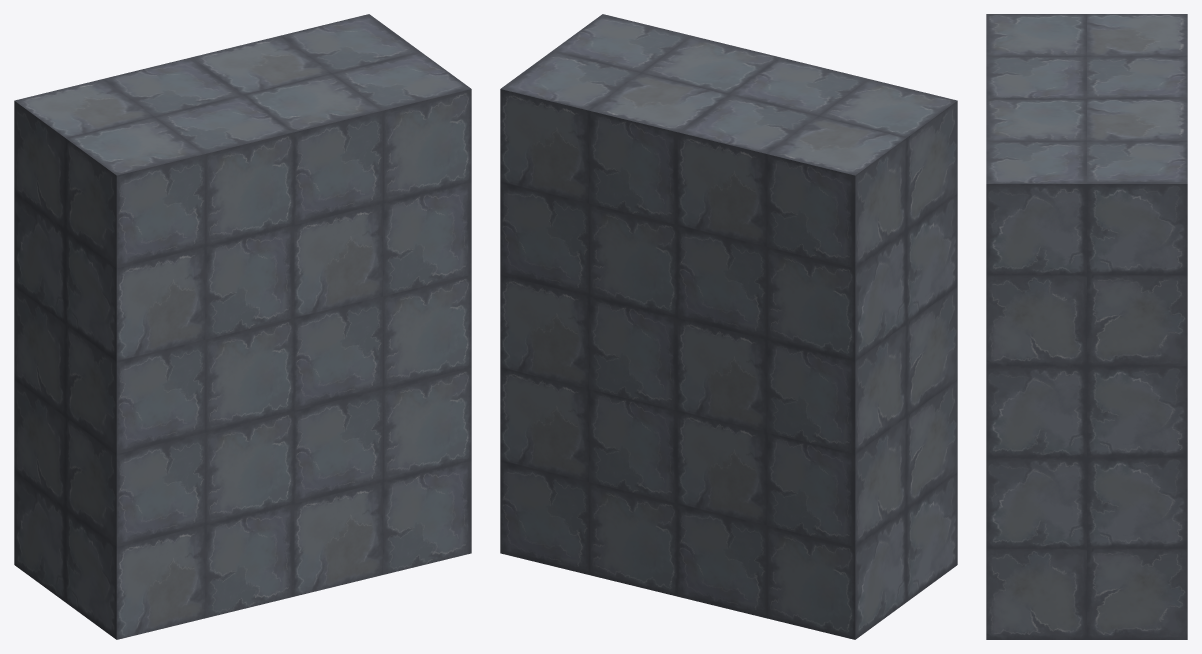
Rendered from Castle Block 4x2x5.fbx.
3 renders of one model, left to right at view 1: azimuth 30°, elevation 25°; view 2: azimuth 150°, elevation 25°; view 3: azimuth 270°, elevation 25°, orthographic.
Parts seen in each view (by area): view 1: Castle Block 4x2x5; view 2: Castle Block 4x2x5; view 3: Castle Block 4x2x5.
Boxes of the visible parts, x1=… form: Castle Block 4x2x5: x1=14, y1=14, x2=471, y2=639; Castle Block 4x2x5: x1=500, y1=14, x2=957, y2=639; Castle Block 4x2x5: x1=986, y1=14, x2=1187, y2=639.
Size of the model in its own units: 3 by 3.75 by 1.5.
